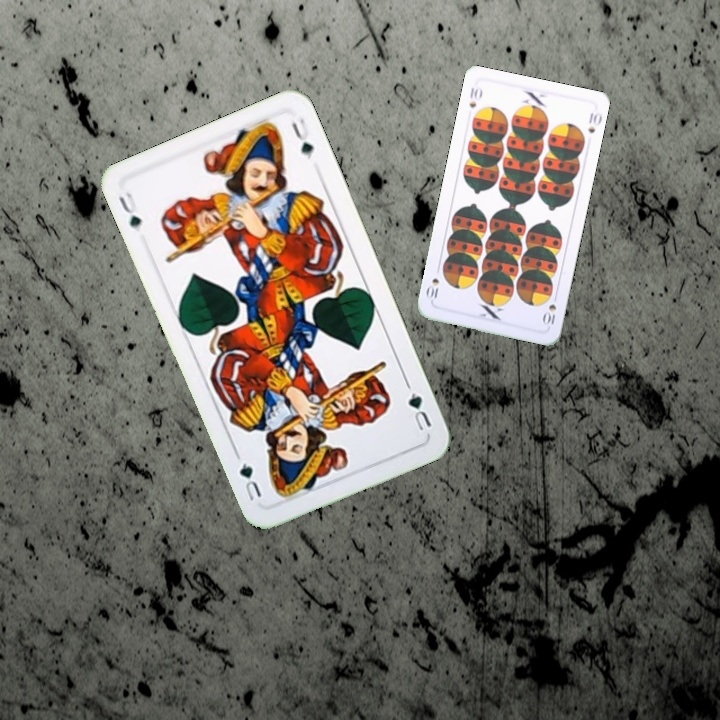GU: (404, 388, 435, 436), (114, 187, 144, 235)
S10: (539, 300, 559, 328), (465, 83, 485, 110)
